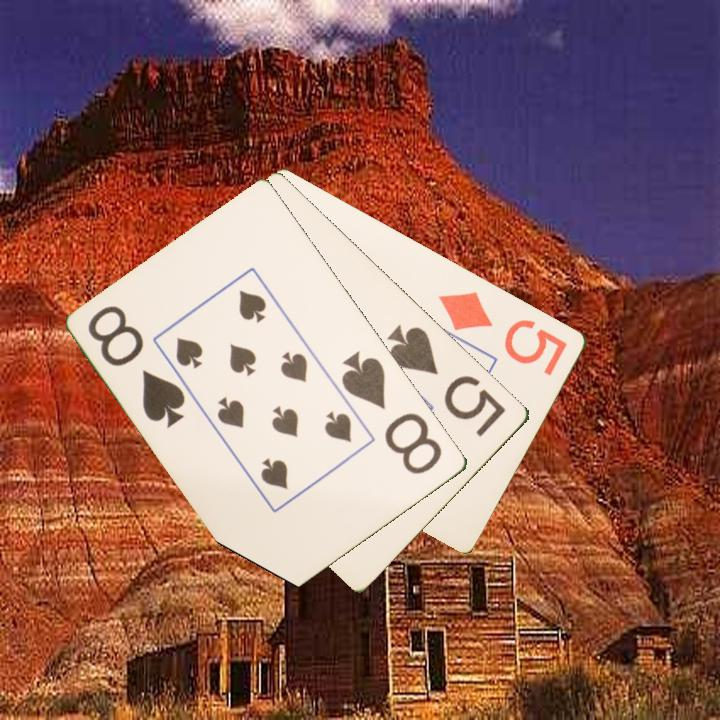5d: (435, 287, 571, 379)
5s: (384, 321, 510, 440)
8s: (338, 348, 446, 478), (84, 302, 189, 431)
